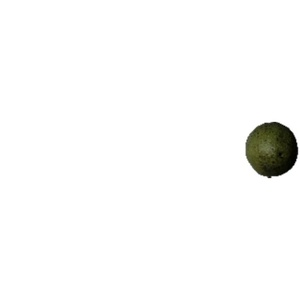abacate: (244, 121, 300, 179)
